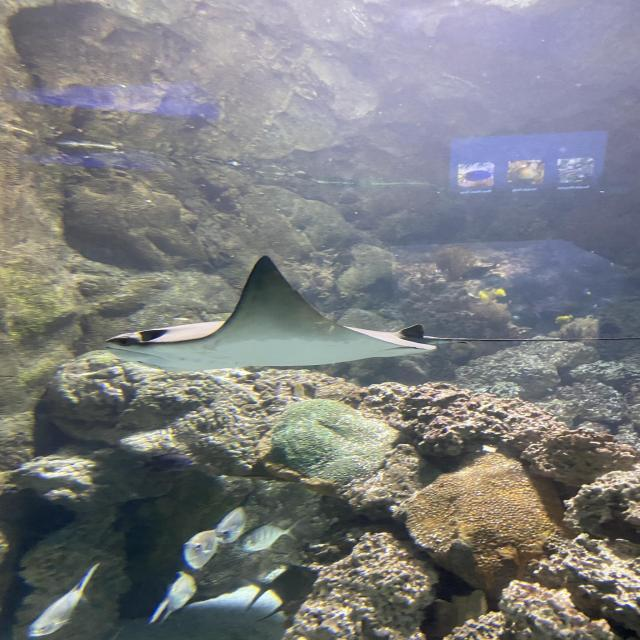fish: (30, 562, 99, 636), (153, 572, 195, 621), (234, 521, 296, 552), (186, 529, 217, 567), (217, 503, 246, 542)
stingray: (100, 253, 438, 370)
